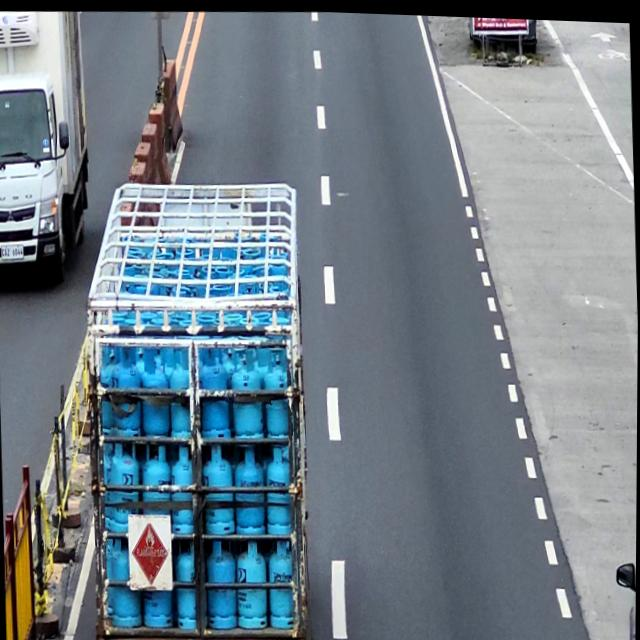License-Plate: (0, 244, 25, 262)
Truck: (77, 173, 316, 640), (0, 8, 94, 291)
